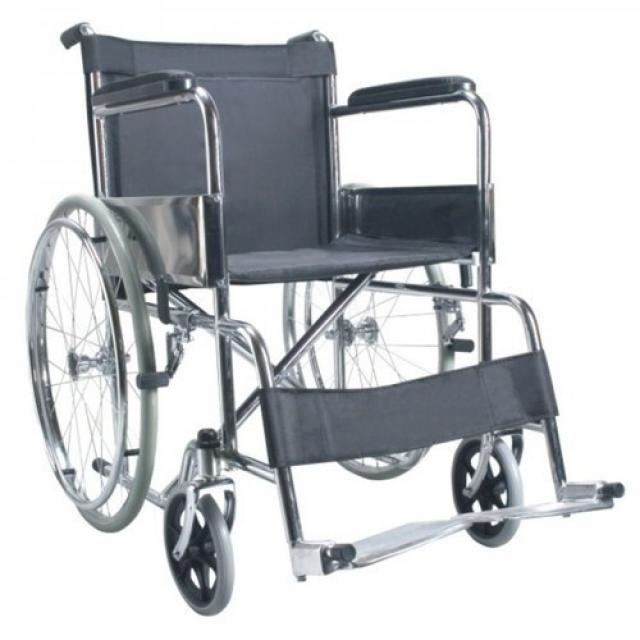wheelchair: (22, 20, 640, 620)
